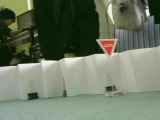stop: (96, 39, 118, 60)
